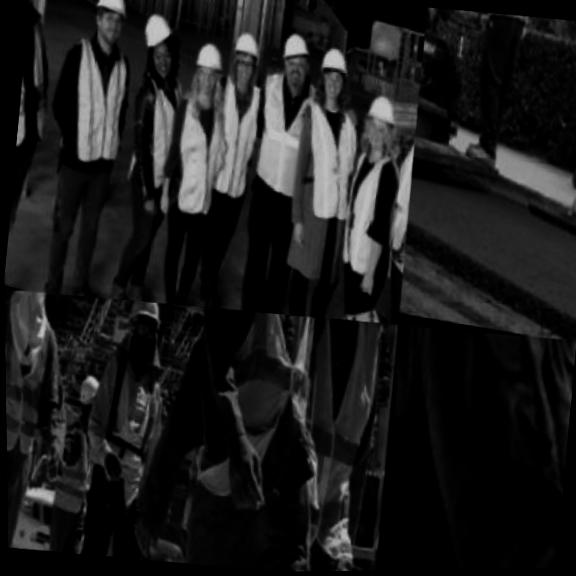safety_vest: (146, 301, 345, 531), (249, 311, 402, 572), (34, 32, 139, 192), (335, 328, 401, 571), (70, 353, 171, 510), (309, 134, 402, 295), (226, 65, 325, 214), (271, 94, 366, 236), (144, 93, 236, 236), (182, 72, 268, 215), (108, 66, 191, 208), (4, 297, 67, 476), (11, 0, 69, 171), (359, 125, 418, 272), (34, 414, 99, 523), (557, 19, 576, 130), (462, 9, 537, 36)
